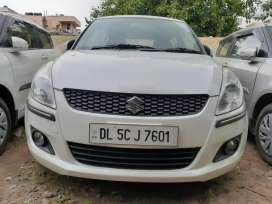license_plate: (90, 124, 178, 145)
